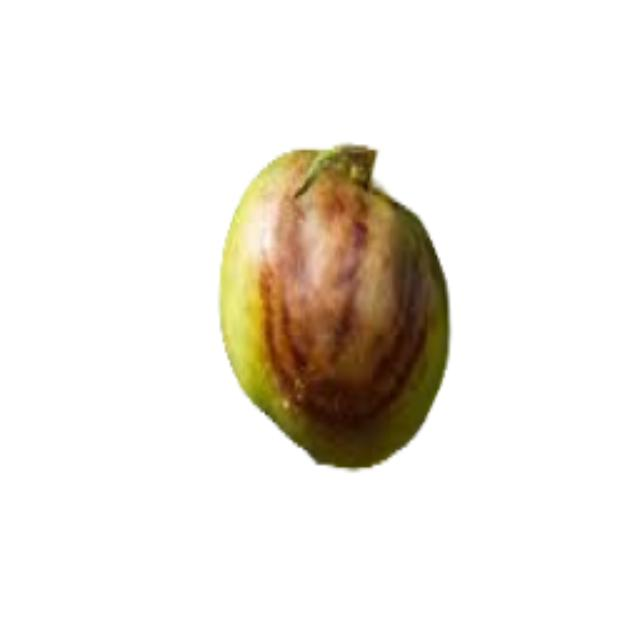defect: (217, 139, 456, 475)
